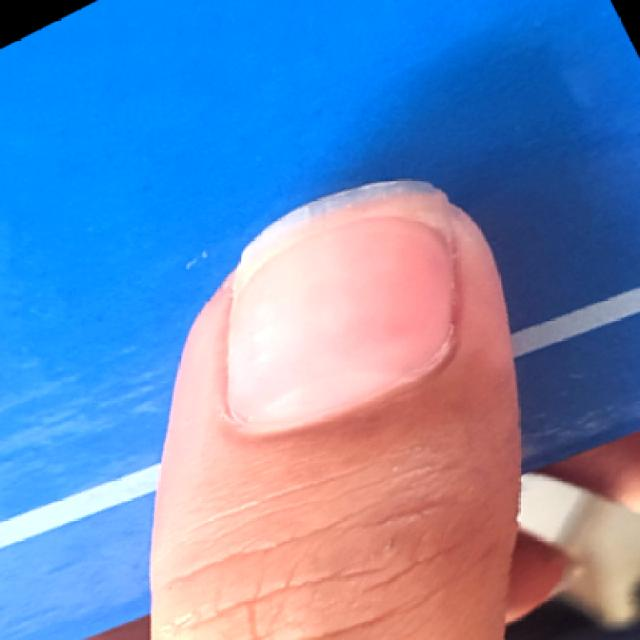Nail: (227, 180, 458, 435)
